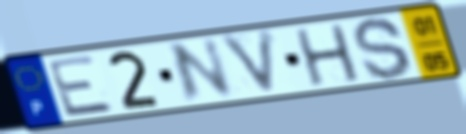2: (107, 49, 161, 111)
E: (44, 53, 119, 120)
H: (292, 22, 365, 89)
N: (166, 35, 237, 107)
S: (350, 15, 415, 82)
V: (216, 26, 281, 100)
